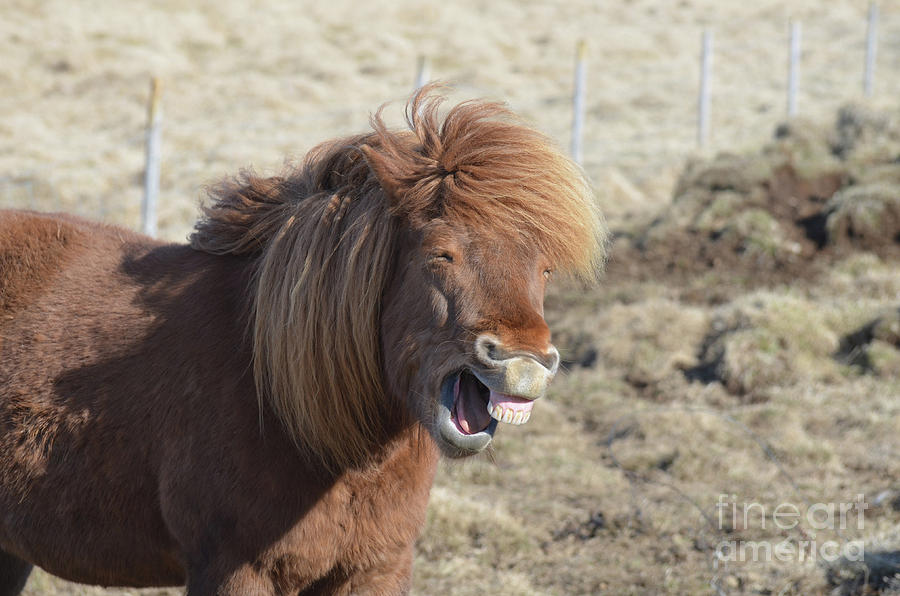Horse: (41, 54, 572, 588)
